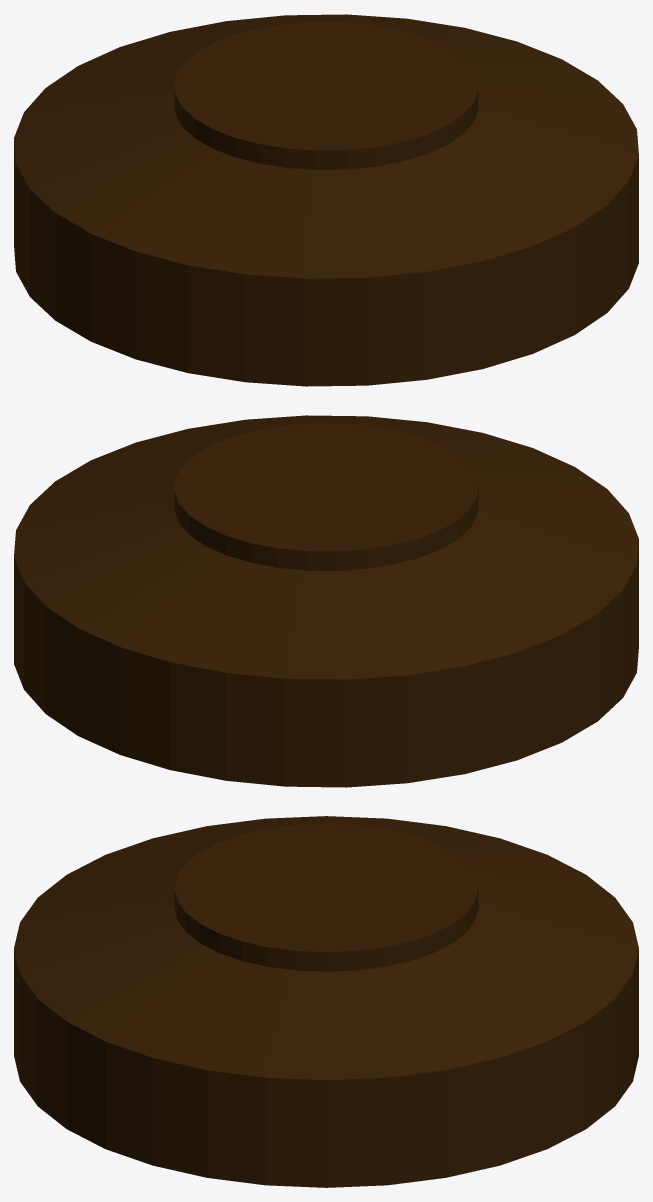
The model's file is enveloppe_interieure.fbx.
3 renders of one model, top to bottom at view 1: azimuth 30°, elevation 25°; view 2: azimuth 150°, elevation 25°; view 3: azimuth 270°, elevation 25°, orthographic.
Parts seen in each view (by area): view 1: EnveloppeInterieure; view 2: EnveloppeInterieure; view 3: EnveloppeInterieure.
Part boxes in pixels (x1,y1,x2,y2): EnveloppeInterieure: [14, 14, 638, 386]; EnveloppeInterieure: [14, 415, 638, 787]; EnveloppeInterieure: [14, 816, 638, 1187].
Bounding box in the file's own units: 4963 × 1737 × 4963.
